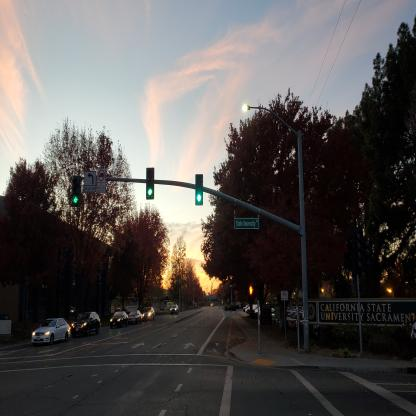green: (145, 166, 156, 201), (194, 172, 204, 207)
left-green: (70, 173, 82, 209)
